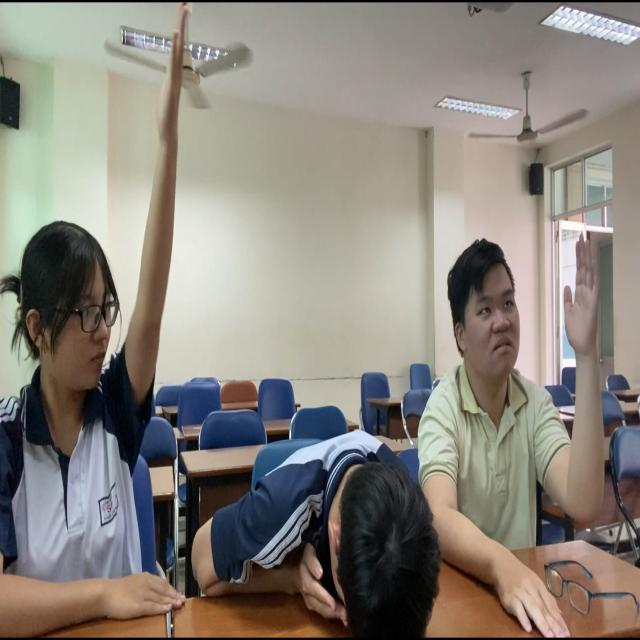raise_hand: (1, 1, 190, 627), (423, 240, 617, 625)
sleep: (194, 434, 444, 636)
